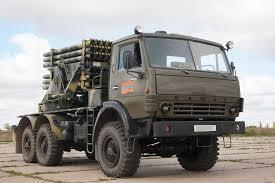rszo: (11, 31, 250, 172)
